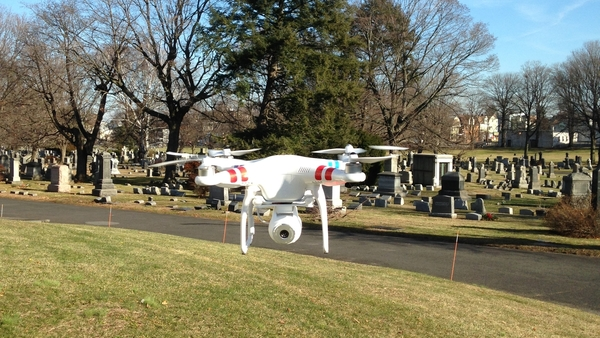drone: (147, 143, 411, 257)
